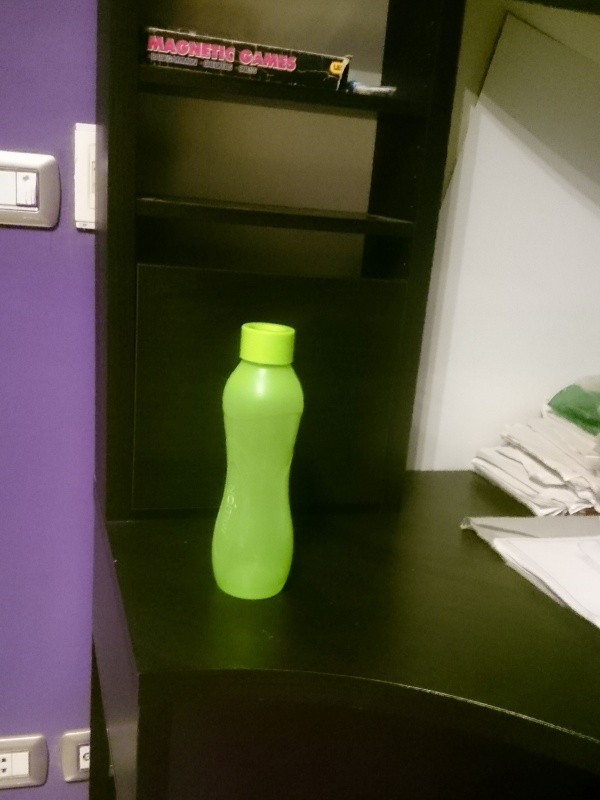my bottle: (211, 321, 304, 601)
